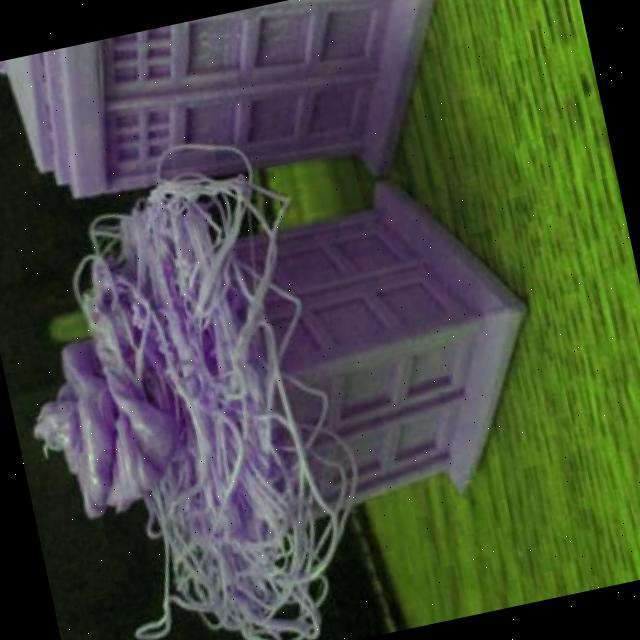spaghetti: (0, 113, 397, 640)
